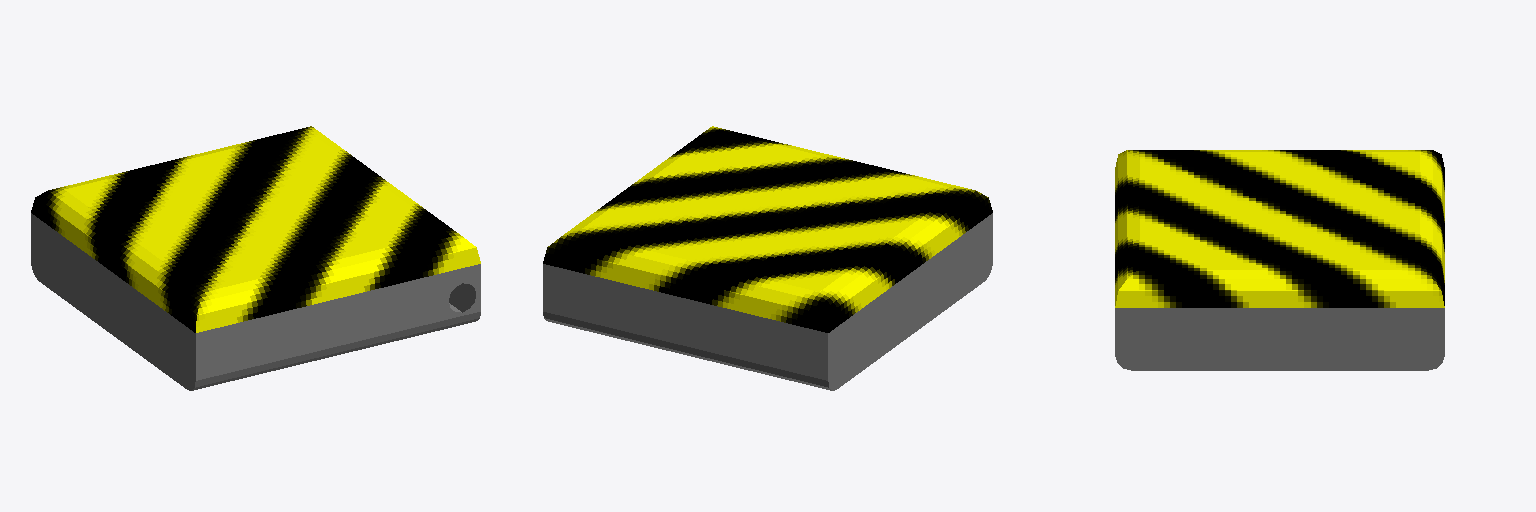
3 views of the same model, side by side, from view 1: azimuth 30°, elevation 25°; view 2: azimuth 150°, elevation 25°; view 3: azimuth 270°, elevation 25° (orthographic).
Parts seen in each view (by area): view 1: Elevator_Cube; view 2: Elevator_Cube; view 3: Elevator_Cube.
Boxes of the visible parts, <box> form: Elevator_Cube: <box>31,126,480,390</box>; Elevator_Cube: <box>543,126,992,390</box>; Elevator_Cube: <box>1115,150,1444,370</box>.
Bounding box in the file's own units: 1 × 0.3 × 1.
Materials: 2 (1 with a texture image).